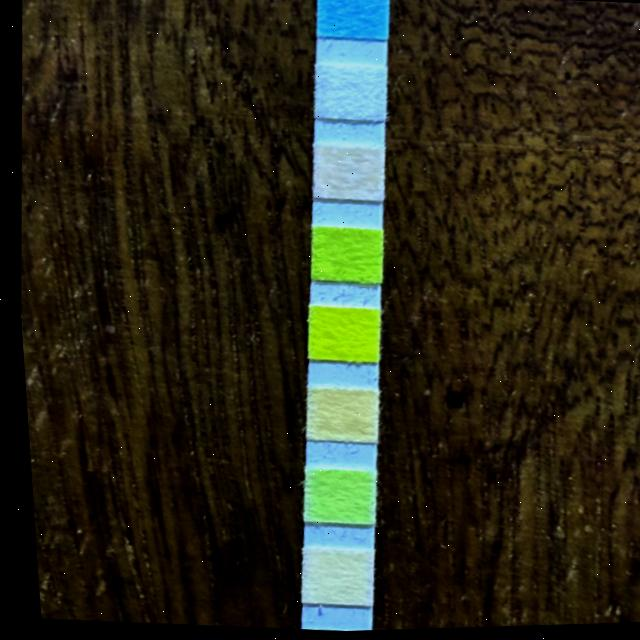Bilirubin: (307, 64, 387, 127)
Blood: (299, 309, 376, 365)
Glucose: (313, 0, 391, 43)
Ketone: (309, 146, 381, 204)
Protein: (295, 470, 371, 528)
SpGravity: (305, 231, 381, 288)
Urobilinogen: (288, 550, 367, 611)
pH: (298, 389, 373, 448)
